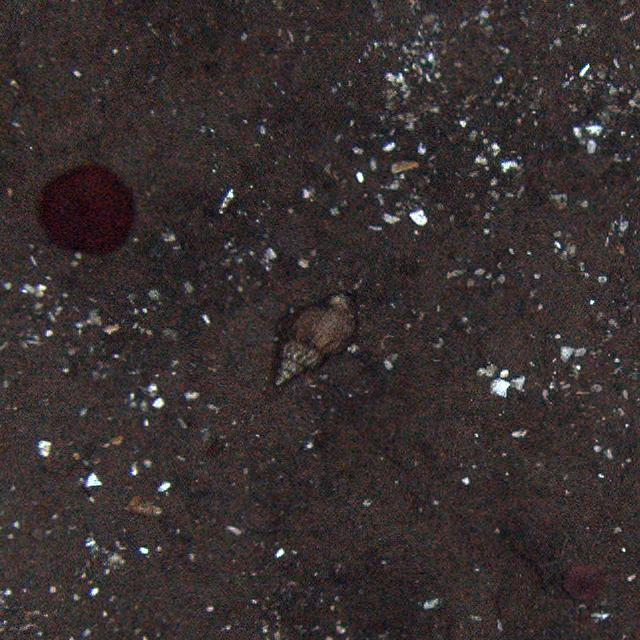whelk: (279, 289, 359, 383)
